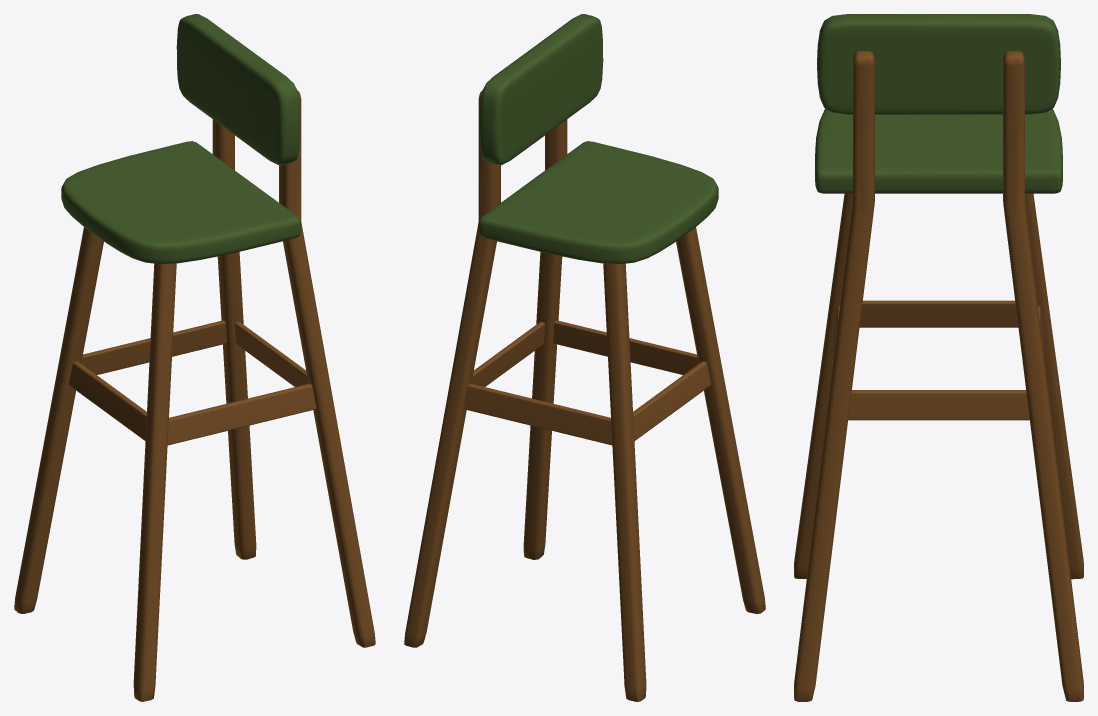
Rendered from barstool_01_green.fbx.
3 views of the same model, side by side, from view 1: azimuth 30°, elevation 25°; view 2: azimuth 150°, elevation 25°; view 3: azimuth 270°, elevation 25° (orthographic). The views are drawn at different scales.
Parts seen in each view (by area): view 1: barstool_01_green; view 2: barstool_01_green; view 3: barstool_01_green.
Boxes of the visible parts, x1,y1,x2,y2 form: barstool_01_green: (14,14,375,701); barstool_01_green: (404,14,765,701); barstool_01_green: (794,14,1083,701).
Size of the model in its own units: 50.15 by 116 by 47.09.
1 material, 1 textured.
